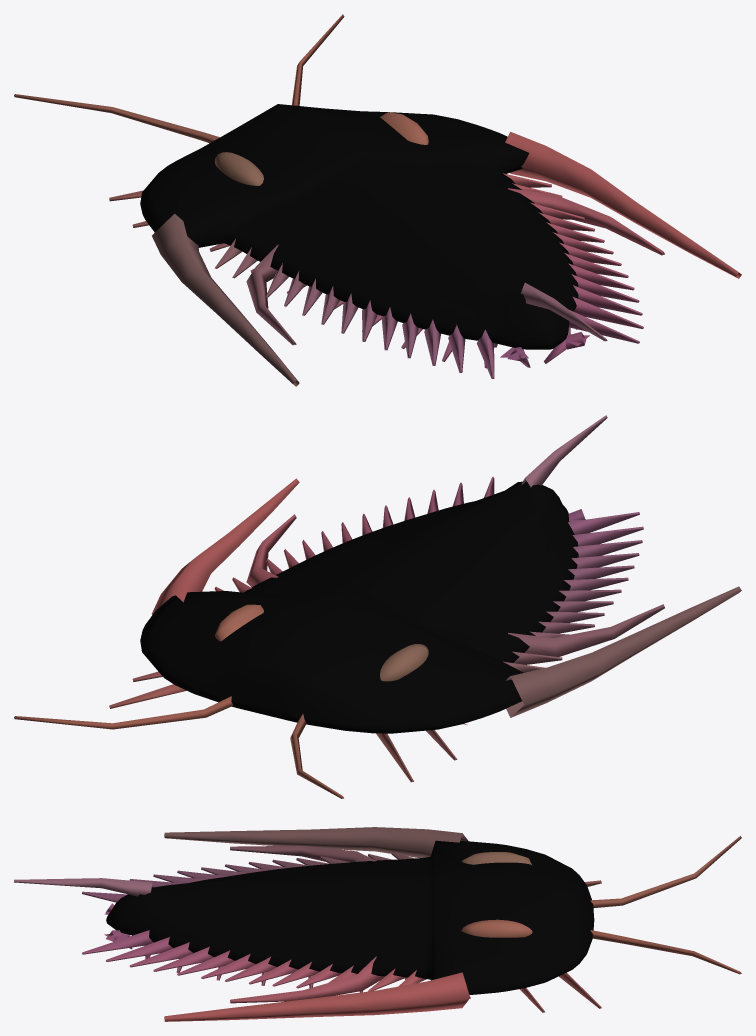
The model's file is trilobite_cheeks_game.glb.
3 renders of one model, top to bottom at view 1: azimuth 30°, elevation 25°; view 2: azimuth 150°, elevation 25°; view 3: azimuth 270°, elevation 25°, orthographic. The views are drawn at different scales.
Parts seen in each view (by area): view 1: trilobite_cheeks_game; view 2: trilobite_cheeks_game; view 3: trilobite_cheeks_game.
Part boxes in pixels (bbox=[...]): trilobite_cheeks_game: bbox=[14, 14, 741, 386]; trilobite_cheeks_game: bbox=[14, 415, 741, 798]; trilobite_cheeks_game: bbox=[14, 827, 741, 1021].
Bounding box in the file's own units: 0.2708 × 0.0478 × 0.4473.
